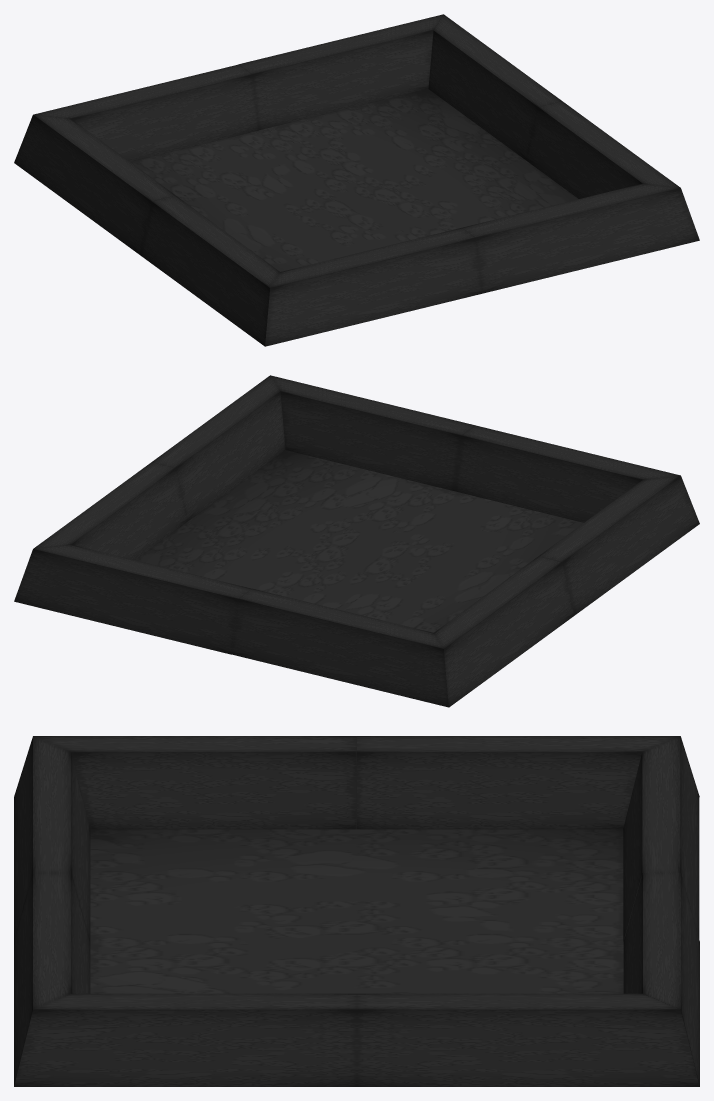
The model's file is sala_16.obj.
3 views of the same model, one above another, from view 1: azimuth 30°, elevation 25°; view 2: azimuth 150°, elevation 25°; view 3: azimuth 270°, elevation 25° (orthographic). The views are drawn at different scales.
Visible parts, largest first — view 1: Ground_Plane.001, Wall.005_Cube.002, Wall.002_Cube.014, Wall.007_Cube.001, Wall.000_Cube.000, Wall.001_Cube.012, Wall.003_Cube.010, Wall.006_Cube.016, Wall.004_Cube.015; view 2: Ground_Plane.001, Wall.007_Cube.001, Wall.000_Cube.000, Wall.005_Cube.002, Wall.002_Cube.014, Wall.003_Cube.010, Wall.001_Cube.012, Wall.004_Cube.015, Wall.006_Cube.016; view 3: Ground_Plane.001, Wall.004_Cube.015, Wall.006_Cube.016, Wall.001_Cube.012, Wall.003_Cube.010, Wall.000_Cube.000, Wall.002_Cube.014, Wall.007_Cube.001, Wall.005_Cube.002.
Part boxes in pixels (<box>): Ground_Plane.001: <box>130,89,578,271</box>; Wall.005_Cube.002: <box>462,183,699,293</box>; Wall.002_Cube.014: <box>265,228,482,346</box>; Wall.007_Cube.001: <box>238,14,443,129</box>; Wall.000_Cube.000: <box>34,64,259,161</box>; Wall.001_Cube.012: <box>14,114,175,254</box>; Wall.003_Cube.010: <box>139,195,279,346</box>; Wall.006_Cube.016: <box>428,14,561,159</box>; Wall.004_Cube.015: <box>526,101,680,198</box>; Ground_Plane.001: <box>135,450,583,632</box>; Wall.007_Cube.001: <box>14,544,251,654</box>; Wall.000_Cube.000: <box>231,588,448,707</box>; Wall.005_Cube.002: <box>270,375,474,490</box>; Wall.002_Cube.014: <box>454,425,680,522</box>; Wall.003_Cube.010: <box>538,475,699,615</box>; Wall.001_Cube.012: <box>434,556,574,707</box>; Wall.004_Cube.015: <box>152,375,285,520</box>; Wall.006_Cube.016: <box>33,462,187,559</box>; Ground_Plane.001: <box>90,829,623,993</box>; Wall.004_Cube.015: <box>14,993,356,1086</box>; Wall.006_Cube.016: <box>357,993,699,1086</box>; Wall.001_Cube.012: <box>357,736,699,829</box>; Wall.003_Cube.010: <box>33,736,356,829</box>; Wall.000_Cube.000: <box>623,736,699,941</box>; Wall.002_Cube.014: <box>14,736,90,941</box>; Wall.007_Cube.001: <box>623,873,699,1086</box>; Wall.005_Cube.002: <box>14,873,90,1085</box>.
Bounding box in the file's own units: 18 × 2 × 18.
